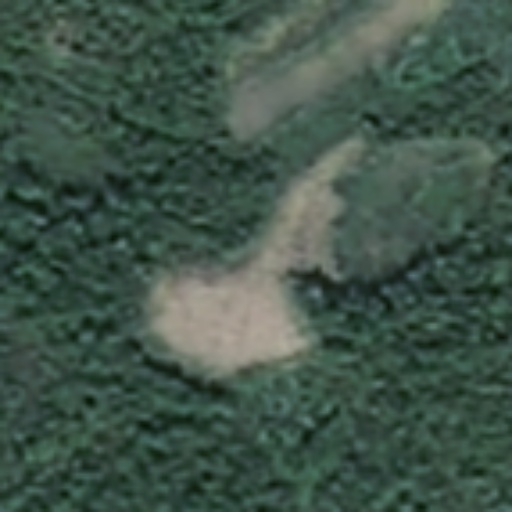landslide: (134, 179, 337, 380)
